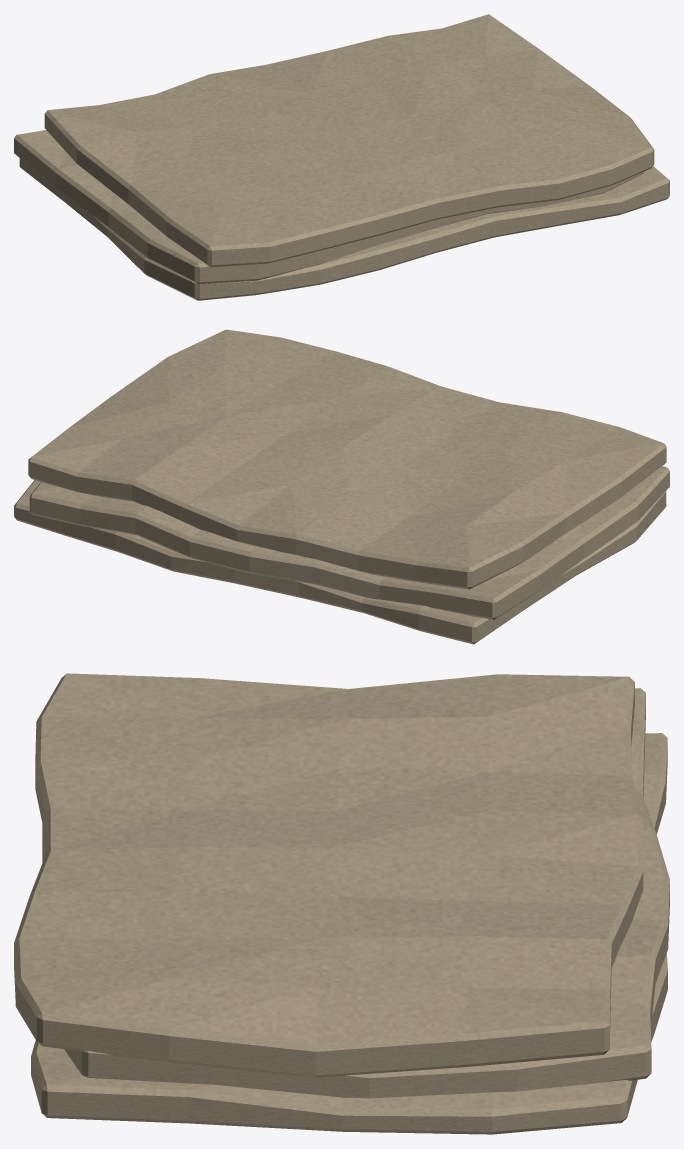
Rendered from FoldedLinen_LOD1.fbx.
3 renders of one model, top to bottom at view 1: azimuth 30°, elevation 25°; view 2: azimuth 150°, elevation 25°; view 3: azimuth 270°, elevation 25°, orthographic. The views are drawn at different scales.
Visible parts, largest first — view 1: FoldedLinen_LOD1; view 2: FoldedLinen_LOD1; view 3: FoldedLinen_LOD1.
Boxes of the visible parts, x1=… form: FoldedLinen_LOD1: x1=14, y1=14, x2=669, y2=300; FoldedLinen_LOD1: x1=14, y1=329, x2=669, y2=644; FoldedLinen_LOD1: x1=14, y1=673, x2=669, y2=1134.
Size of the model in its own units: 0.4439 by 0.0546 by 0.3201.
